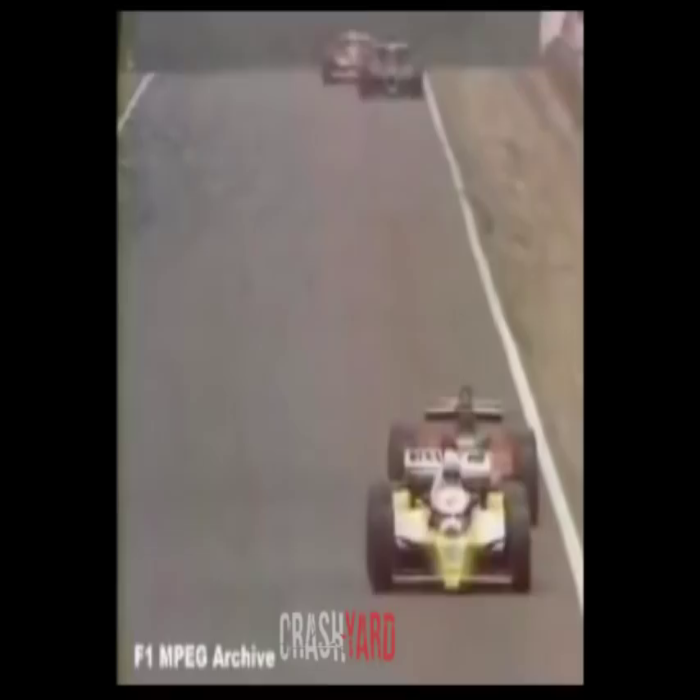f1_car: (363, 445, 553, 608)
